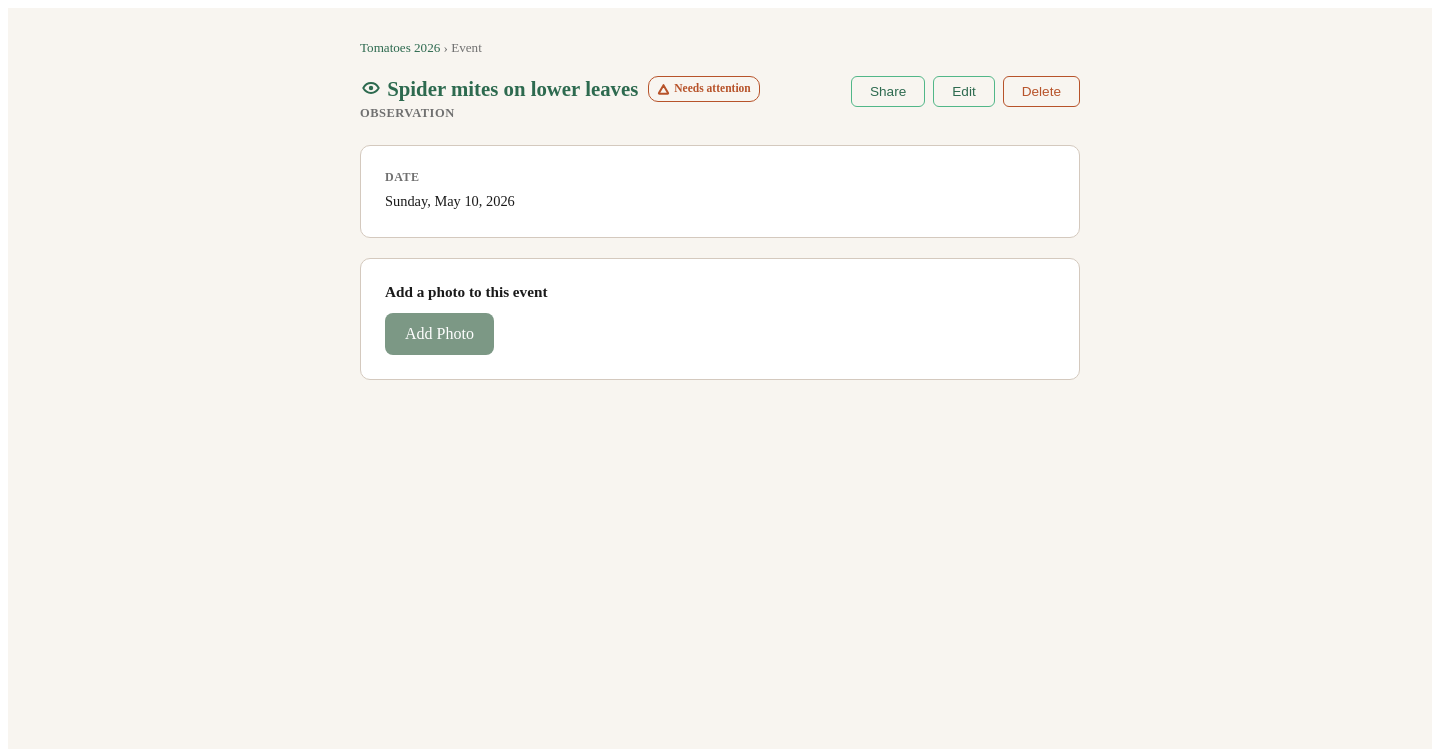
Scenario: EventDetail — edit event-type select sourced from dropdownRegistry (V3-CONFIG-001) › renders one option per EVENT_TYPE_OPTIONS entry with the registry label, in registry order
Click the button "Edit" at (964, 92), box left=933, top=76, right=995, bottom=107
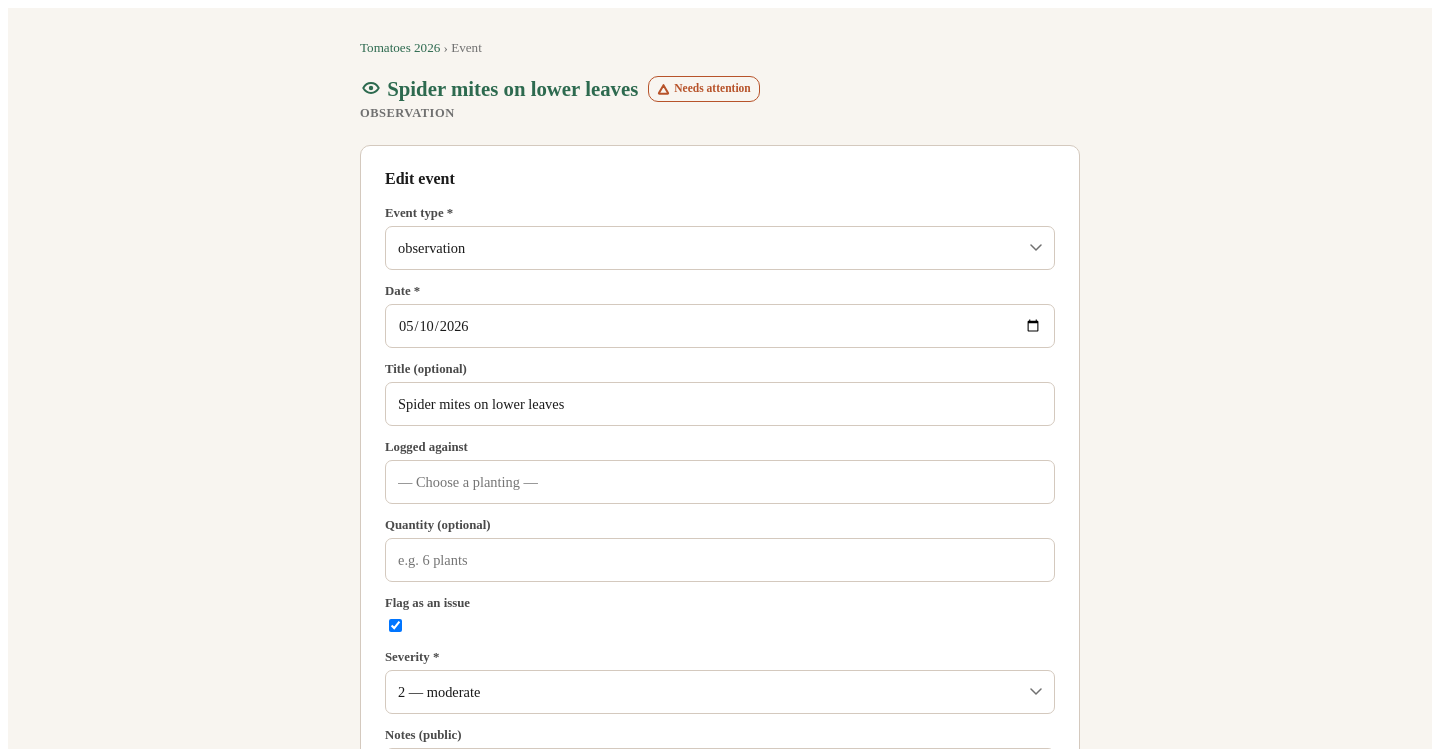
Result: the dropdown with id "ev-event-type" is shown at left=385, top=226, right=1055, bottom=270
